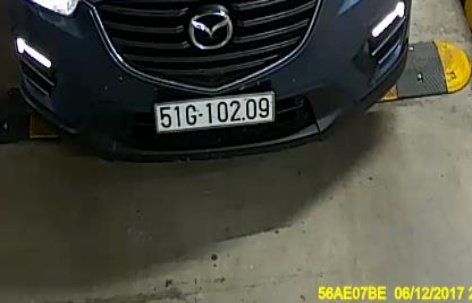plate: (150, 84, 281, 135)
